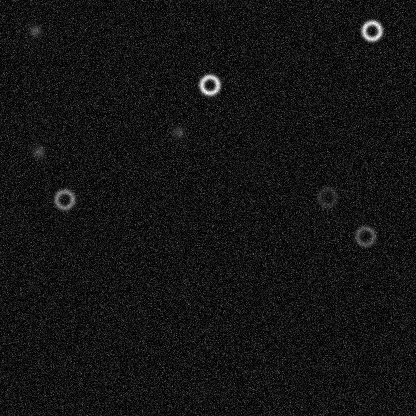Ring: (197, 72, 221, 96), (315, 184, 339, 208), (52, 187, 76, 211), (359, 18, 383, 42), (353, 224, 377, 248)
Spot: (30, 143, 46, 159), (26, 22, 42, 38), (169, 124, 185, 140)
